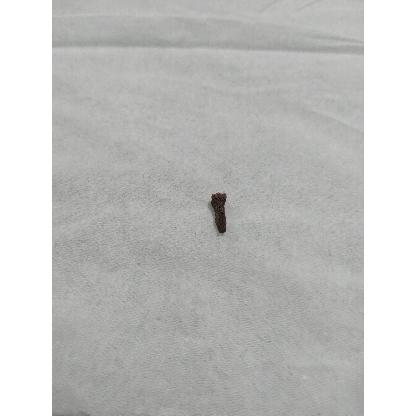sedang: (209, 192, 228, 235)
